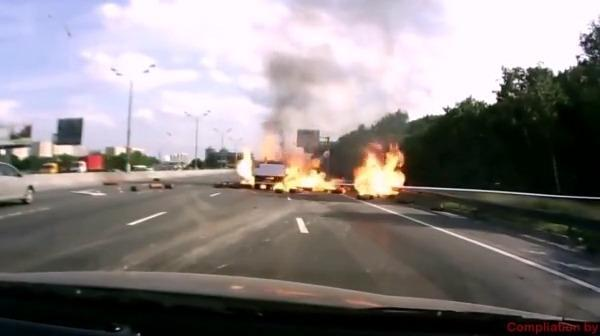fire: (272, 136, 409, 199), (234, 144, 257, 189)
